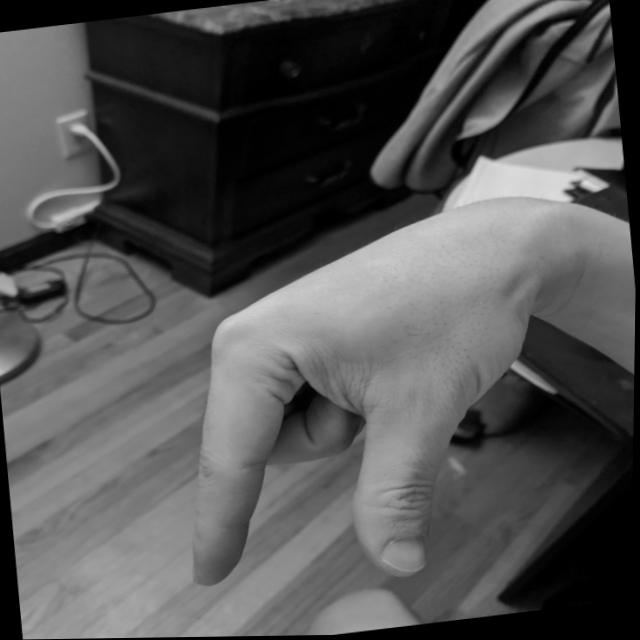Q: (146, 185, 565, 608)
